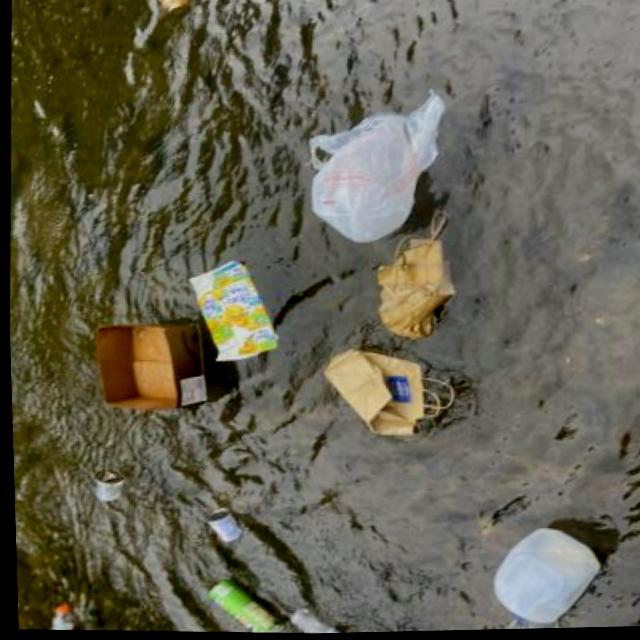Bottle-Glass: (146, 0, 195, 16)
Can-Metal: (192, 572, 286, 635), (82, 466, 128, 510), (200, 504, 239, 544)
Cardboard: (85, 309, 215, 418), (177, 253, 284, 370)
Paper: (315, 342, 464, 448), (370, 231, 455, 342)
Plastic: (296, 78, 450, 254), (480, 518, 607, 632), (278, 600, 342, 635), (36, 594, 78, 631)
